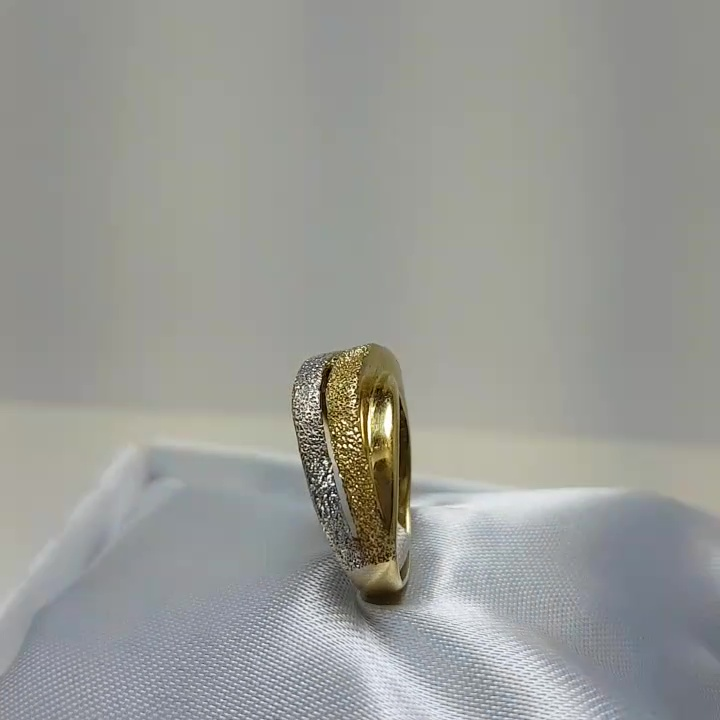Ring 5: (281, 331, 434, 600)
